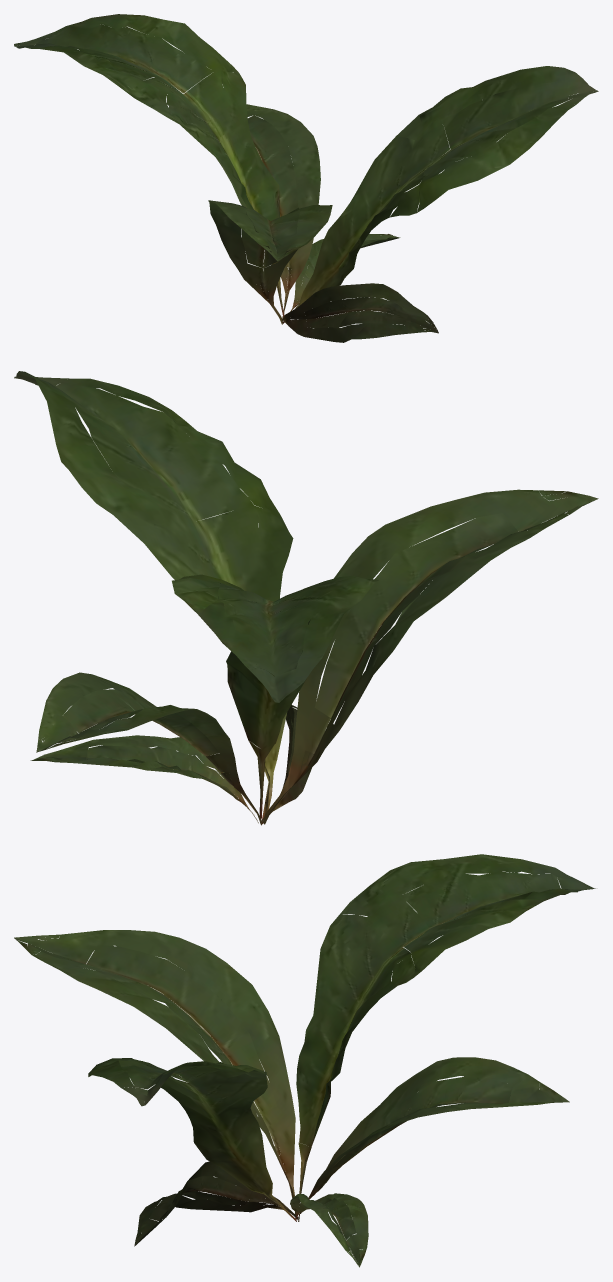
File: plante_anthurium.glb
3 views of the same model, one above another, from view 1: azimuth 30°, elevation 25°; view 2: azimuth 150°, elevation 25°; view 3: azimuth 270°, elevation 25° (orthographic). The views are drawn at different scales.
Parts seen in each view (by area): view 1: anthurium_botany_01_c; view 2: anthurium_botany_01_c; view 3: anthurium_botany_01_c.
Part boxes in pixels (x1,y1,x2,y2): anthurium_botany_01_c: [14, 14, 598, 342]; anthurium_botany_01_c: [14, 371, 598, 825]; anthurium_botany_01_c: [14, 854, 595, 1267].
Bounding box in the file's own units: 0.6011 × 0.3584 × 0.6576.
1 material, 1 textured.
